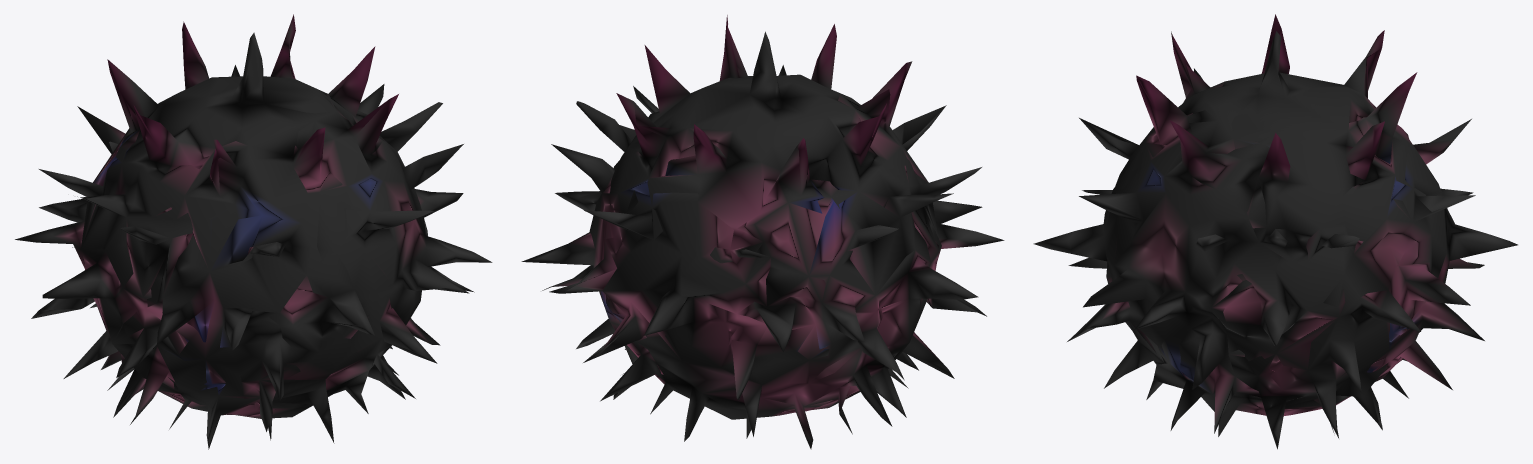
The model's file is gen3d-sea-urchin-lod0.glb.
3 views of the same model, side by side, from view 1: azimuth 30°, elevation 25°; view 2: azimuth 150°, elevation 25°; view 3: azimuth 270°, elevation 25° (orthographic).
Parts seen in each view (by area): view 1: part_0; view 2: part_0; view 3: part_0.
Part boxes in pixels (x1=…): part_0: x1=15, y1=14, x2=492, y2=449; part_0: x1=521, y1=15, x2=1004, y2=449; part_0: x1=1033, y1=14, x2=1517, y2=449.
Bounding box in the file's own units: 1.15 × 1 × 1.15.
